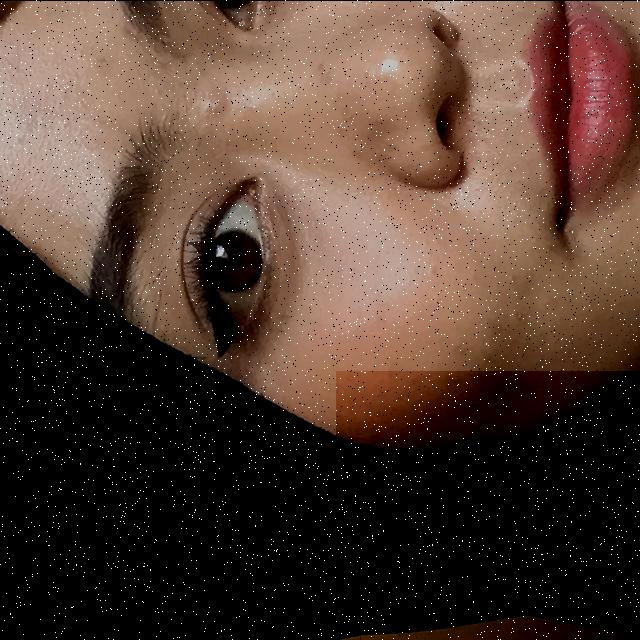kapan: (336, 370, 640, 640)
